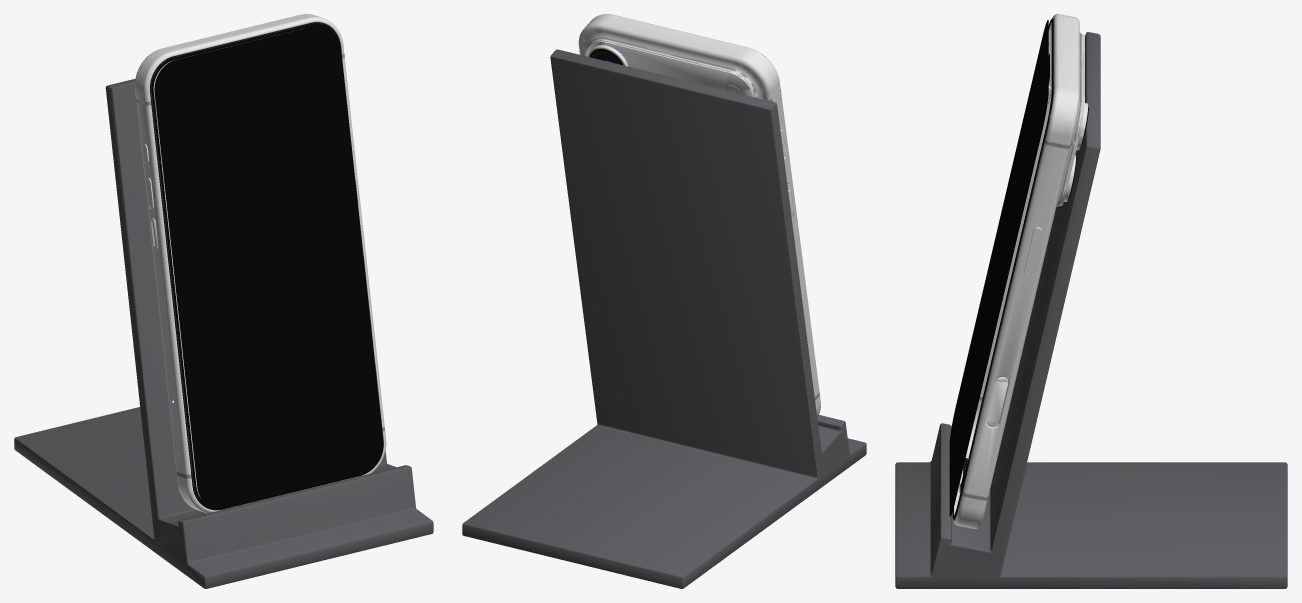
Rendered from house-of-hex.glb.
3 views of the same model, side by side, from view 1: azimuth 30°, elevation 25°; view 2: azimuth 150°, elevation 25°; view 3: azimuth 270°, elevation 25° (orthographic). The views are drawn at different scales.
Parts seen in each view (by area): view 1: screen, stand, phone; view 2: stand, phone; view 3: stand, phone, screen.
Boxes of the visible parts, bbox=[...] form: screen: bbox=[154, 25, 383, 508]; stand: bbox=[14, 78, 433, 588]; phone: bbox=[135, 14, 386, 513]; stand: bbox=[462, 49, 866, 588]; phone: bbox=[578, 14, 820, 416]; stand: bbox=[895, 32, 1287, 588]; phone: bbox=[952, 14, 1088, 528]; screen: bbox=[949, 20, 1048, 516].
Bounding box in the file's own units: 0.09 × 0.1758 × 0.13.
4 materials, 2 textured.
